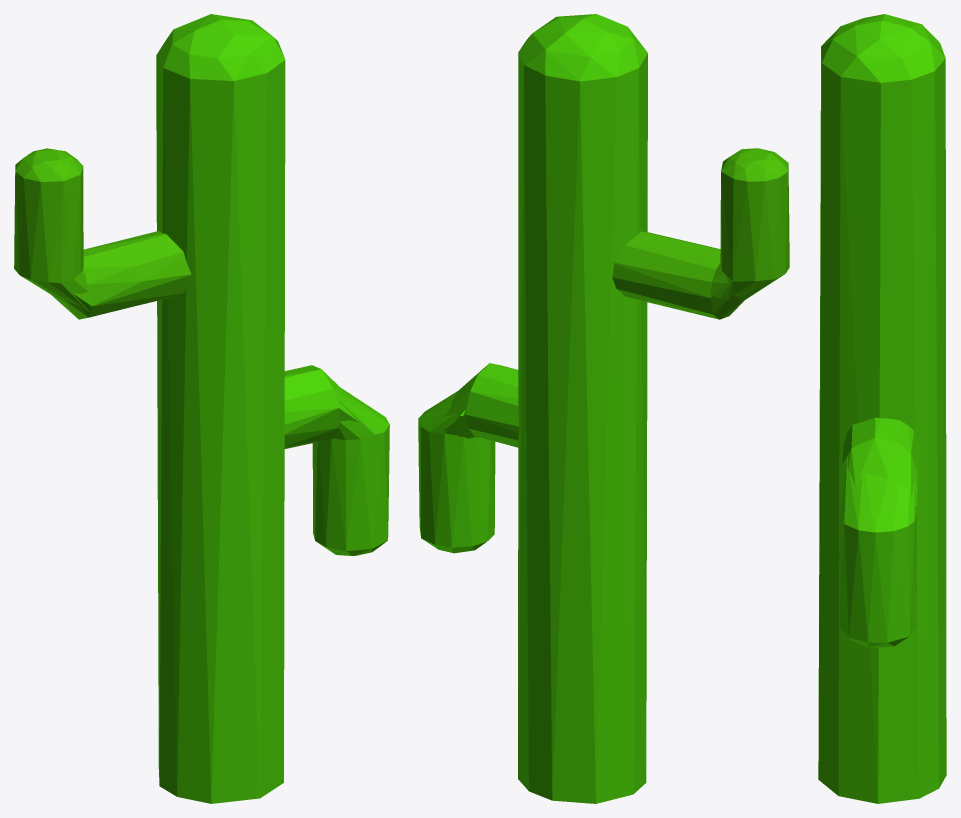
File: Cactus 2.fbx
3 views of the same model, side by side, from view 1: azimuth 30°, elevation 25°; view 2: azimuth 150°, elevation 25°; view 3: azimuth 270°, elevation 25° (orthographic).
Parts seen in each view (by area): view 1: Cylinder, Cylinder.001, Cylinder.002; view 2: Cylinder, Cylinder.001, Cylinder.002; view 3: Cylinder, Cylinder.002.
Boxes of the visible parts, x1,y1,x2,y2 form: Cylinder: [156, 14, 285, 803]; Cylinder.001: [14, 148, 191, 319]; Cylinder.002: [284, 365, 389, 555]; Cylinder: [518, 14, 647, 803]; Cylinder.001: [612, 148, 789, 319]; Cylinder.002: [418, 363, 519, 553]; Cylinder: [818, 14, 946, 803]; Cylinder.002: [839, 417, 919, 647].
Size of the model in its own units: 321 by 639 by 98.21.
